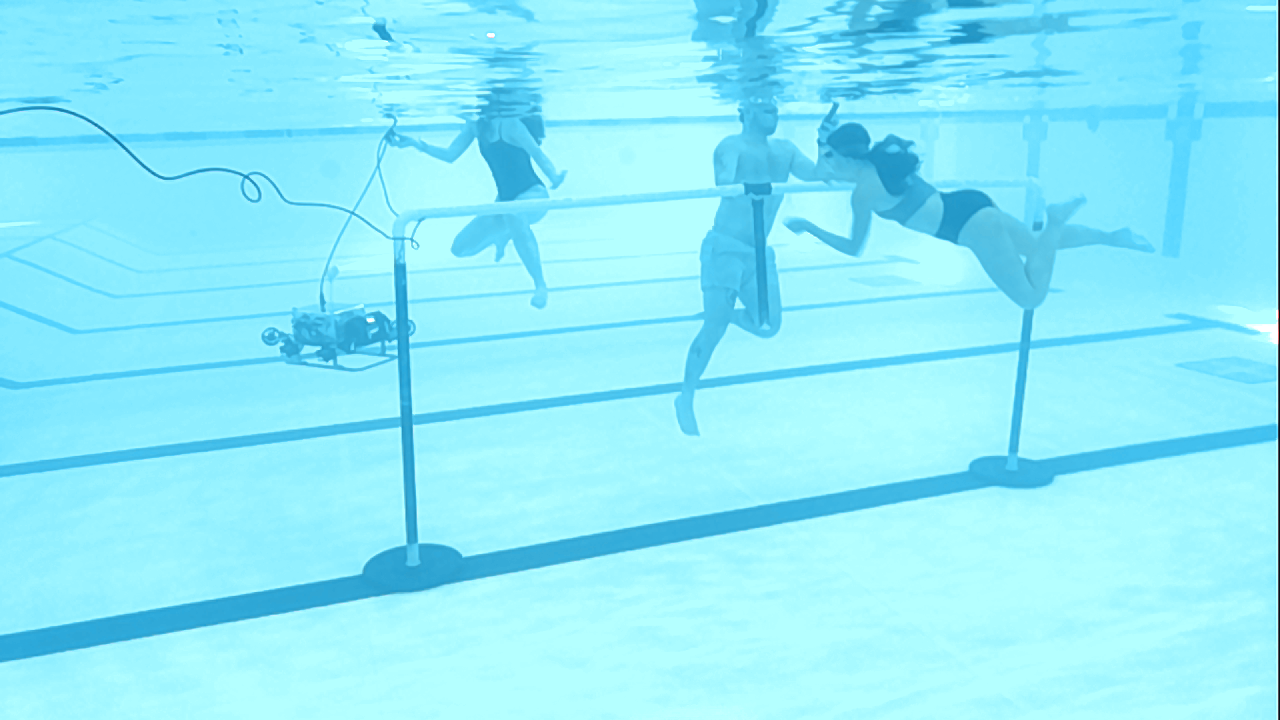gate_leg_center: (743, 184, 775, 321)
gate_leg_l: (387, 251, 425, 554)
gate_leg_r: (1007, 309, 1038, 472)
